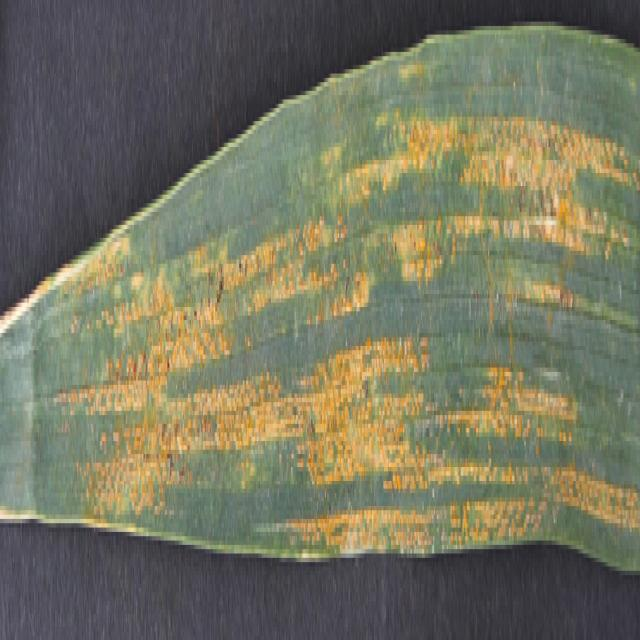leaf rust: (48, 99, 640, 549)
